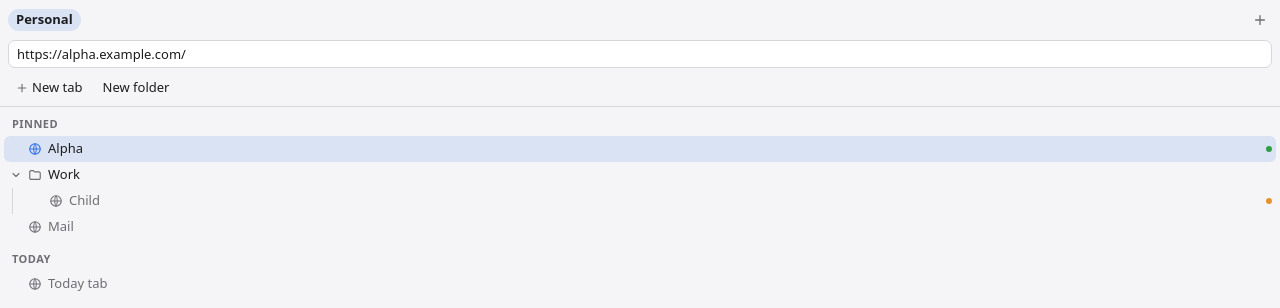
it: rendering › renders containers as nested ARIA tree groups with levels and expansion state
expect the element named "Tabs" is shown: met, box [4,116,1276,292]
Click the text "Work". click: (45, 174)
box: [10,165,80,183]
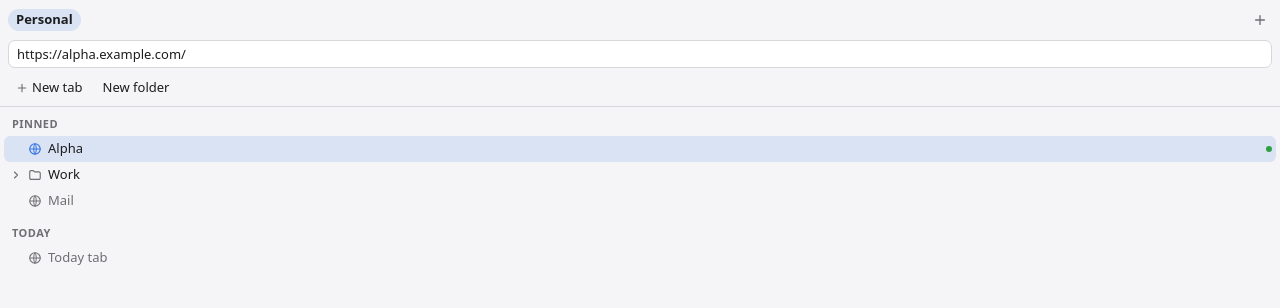
expect the list item "Work" is collapsed: met, box [10,165,80,183]
expect the text "Child" is gone: met
